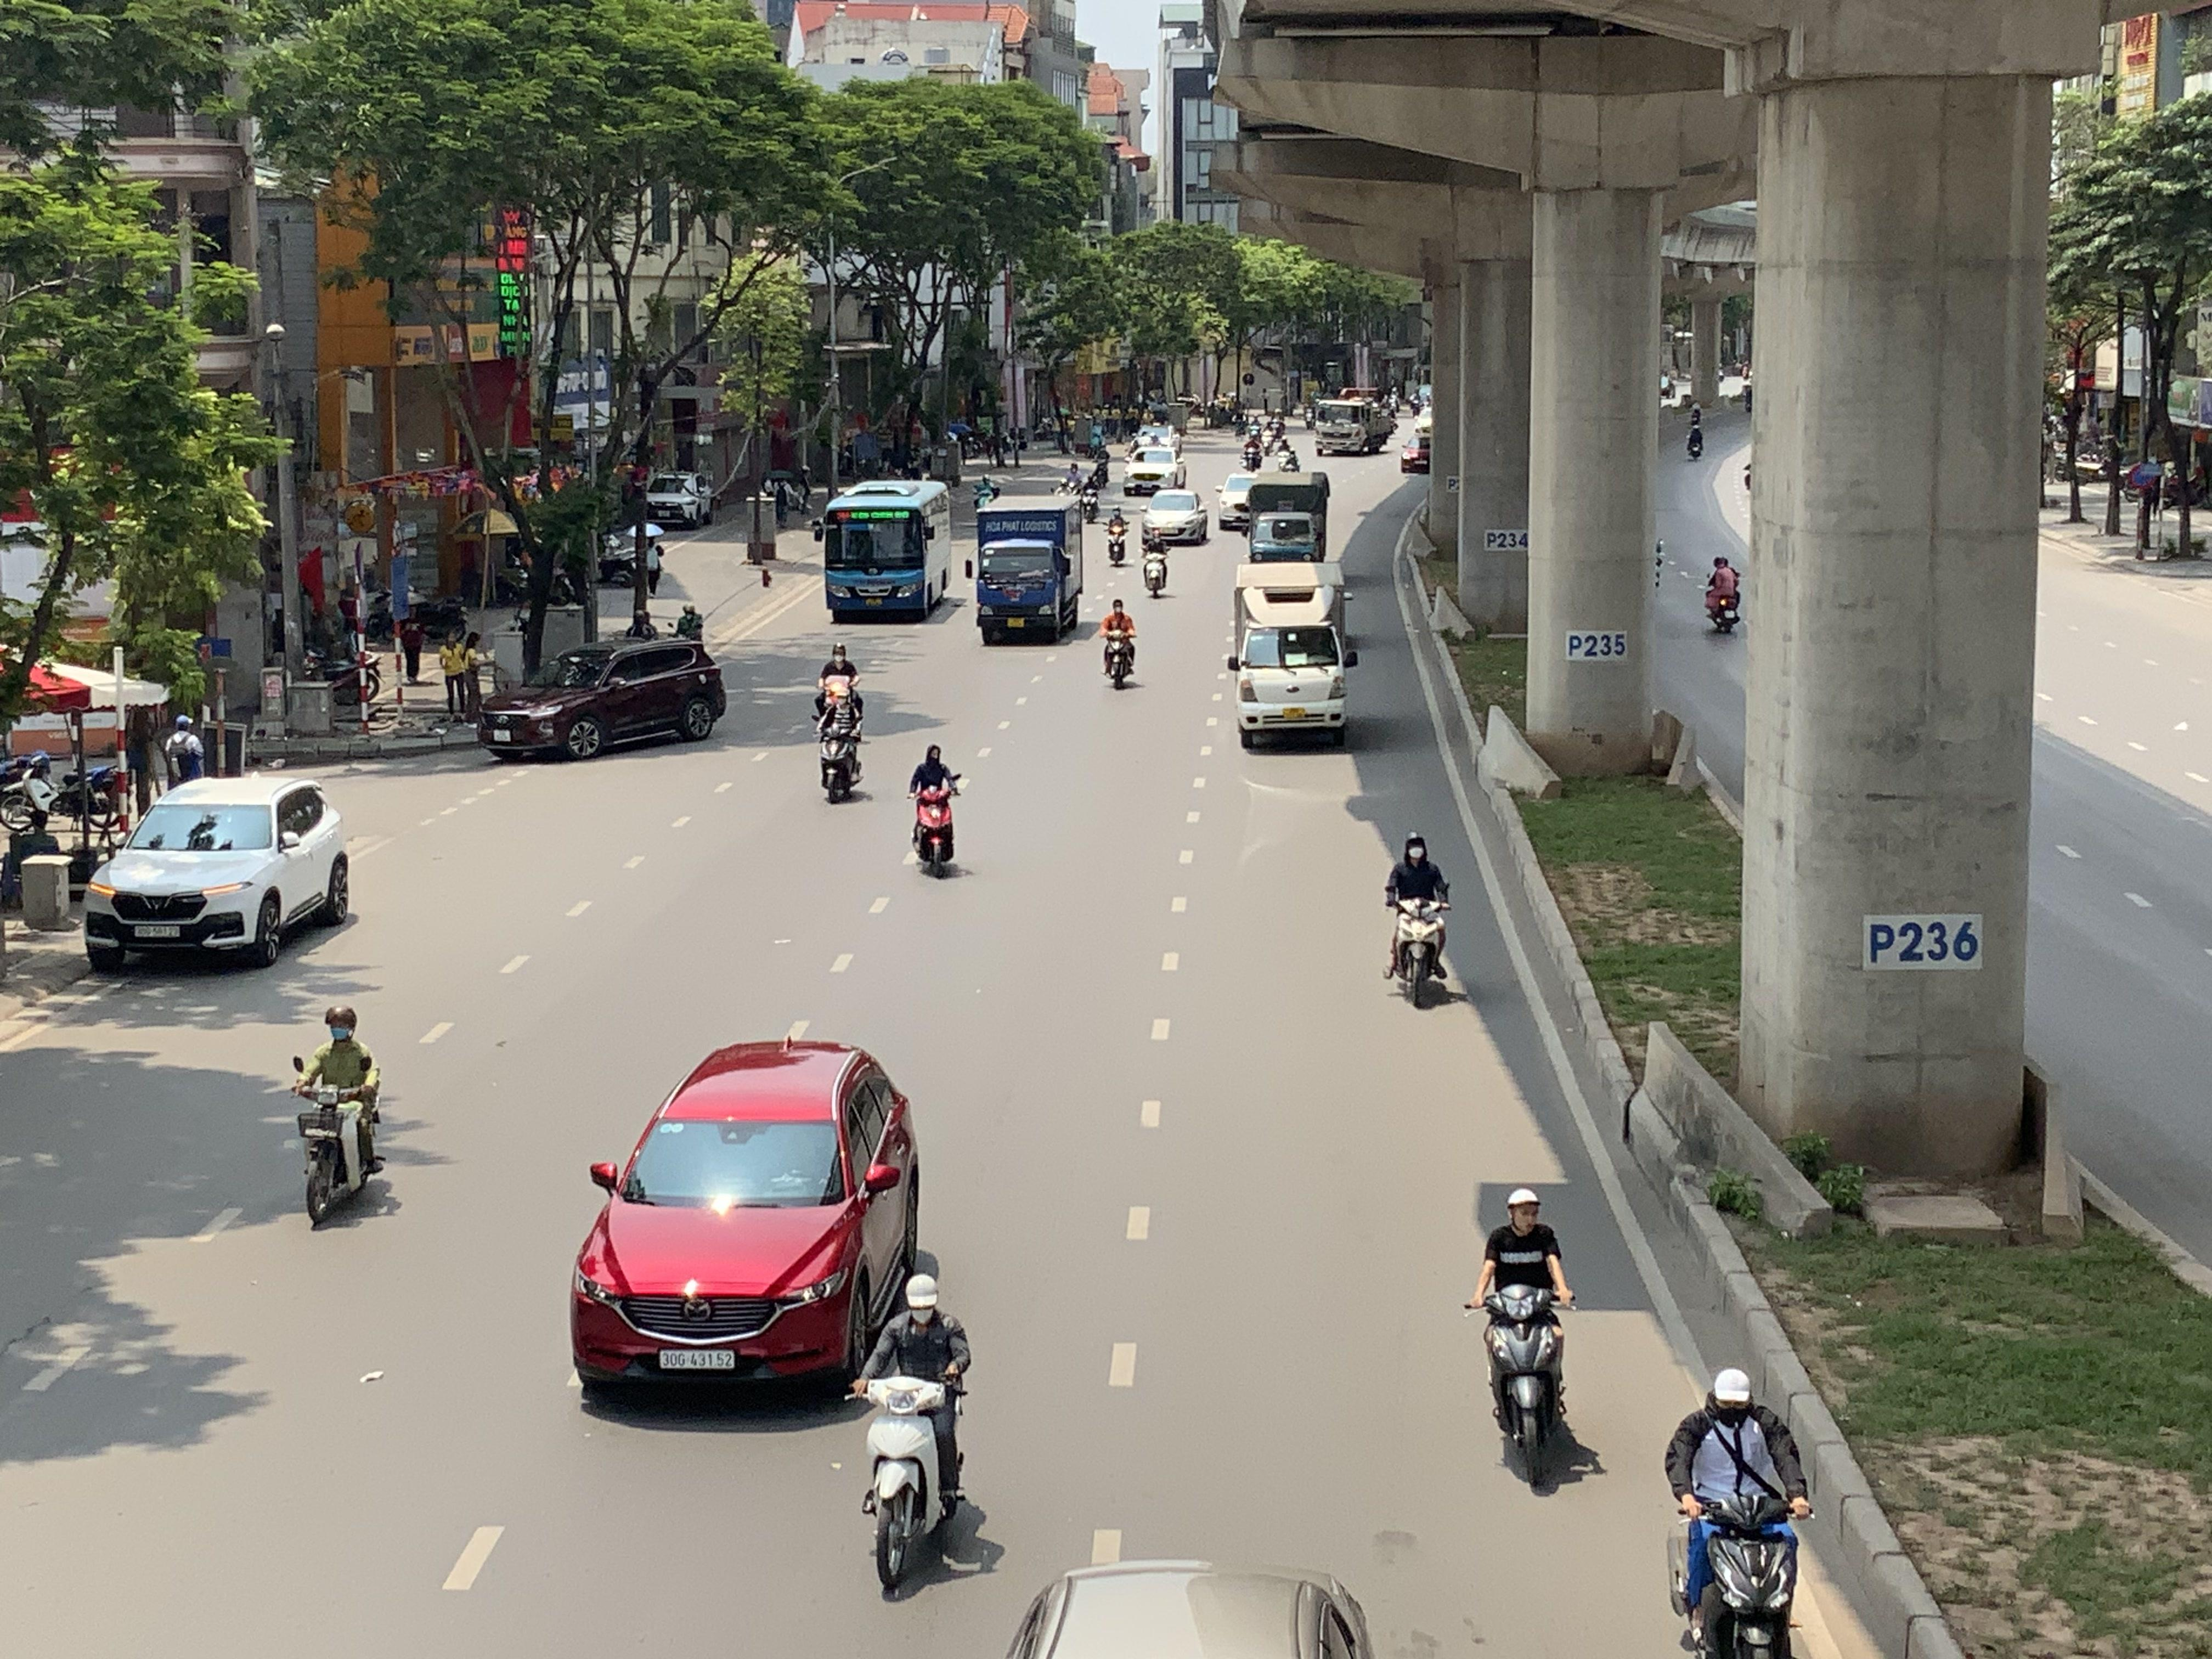BSD: (660, 1349, 735, 1370), (134, 924, 181, 938)
bus: (820, 477, 953, 622)
car: (570, 1037, 925, 1408), (82, 774, 354, 972), (475, 638, 726, 763), (644, 471, 716, 530), (1141, 490, 1211, 545), (1122, 443, 1184, 493)
motorbike: (1665, 1366, 1813, 1659), (853, 1269, 977, 1601), (1468, 1185, 1599, 1499), (291, 1004, 392, 1230), (1385, 833, 1454, 1009), (907, 741, 963, 878), (817, 687, 867, 803), (813, 645, 864, 727), (1099, 598, 1137, 688), (1703, 554, 1742, 634), (1141, 528, 1170, 598), (1104, 504, 1129, 566)
truck: (1226, 563, 1357, 749), (972, 488, 1085, 645), (1245, 467, 1331, 563)
